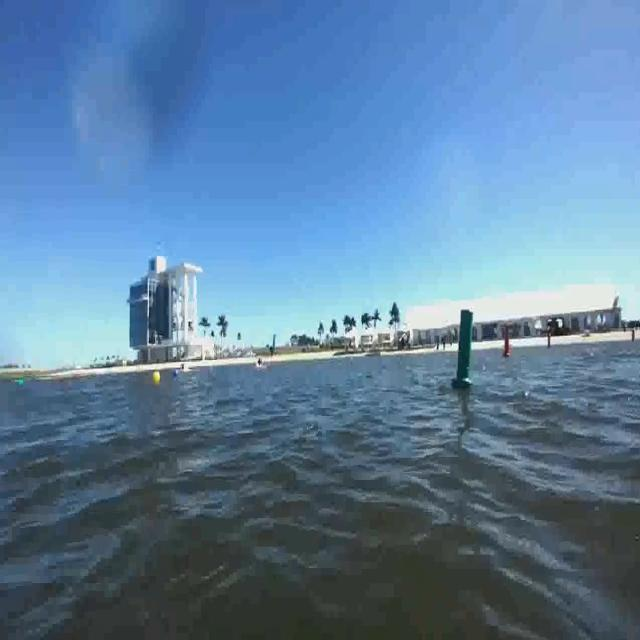green-column-buoy: (451, 306, 477, 390)
red-column-buoy: (501, 326, 512, 359)
yellow-buoy: (152, 371, 161, 387)
